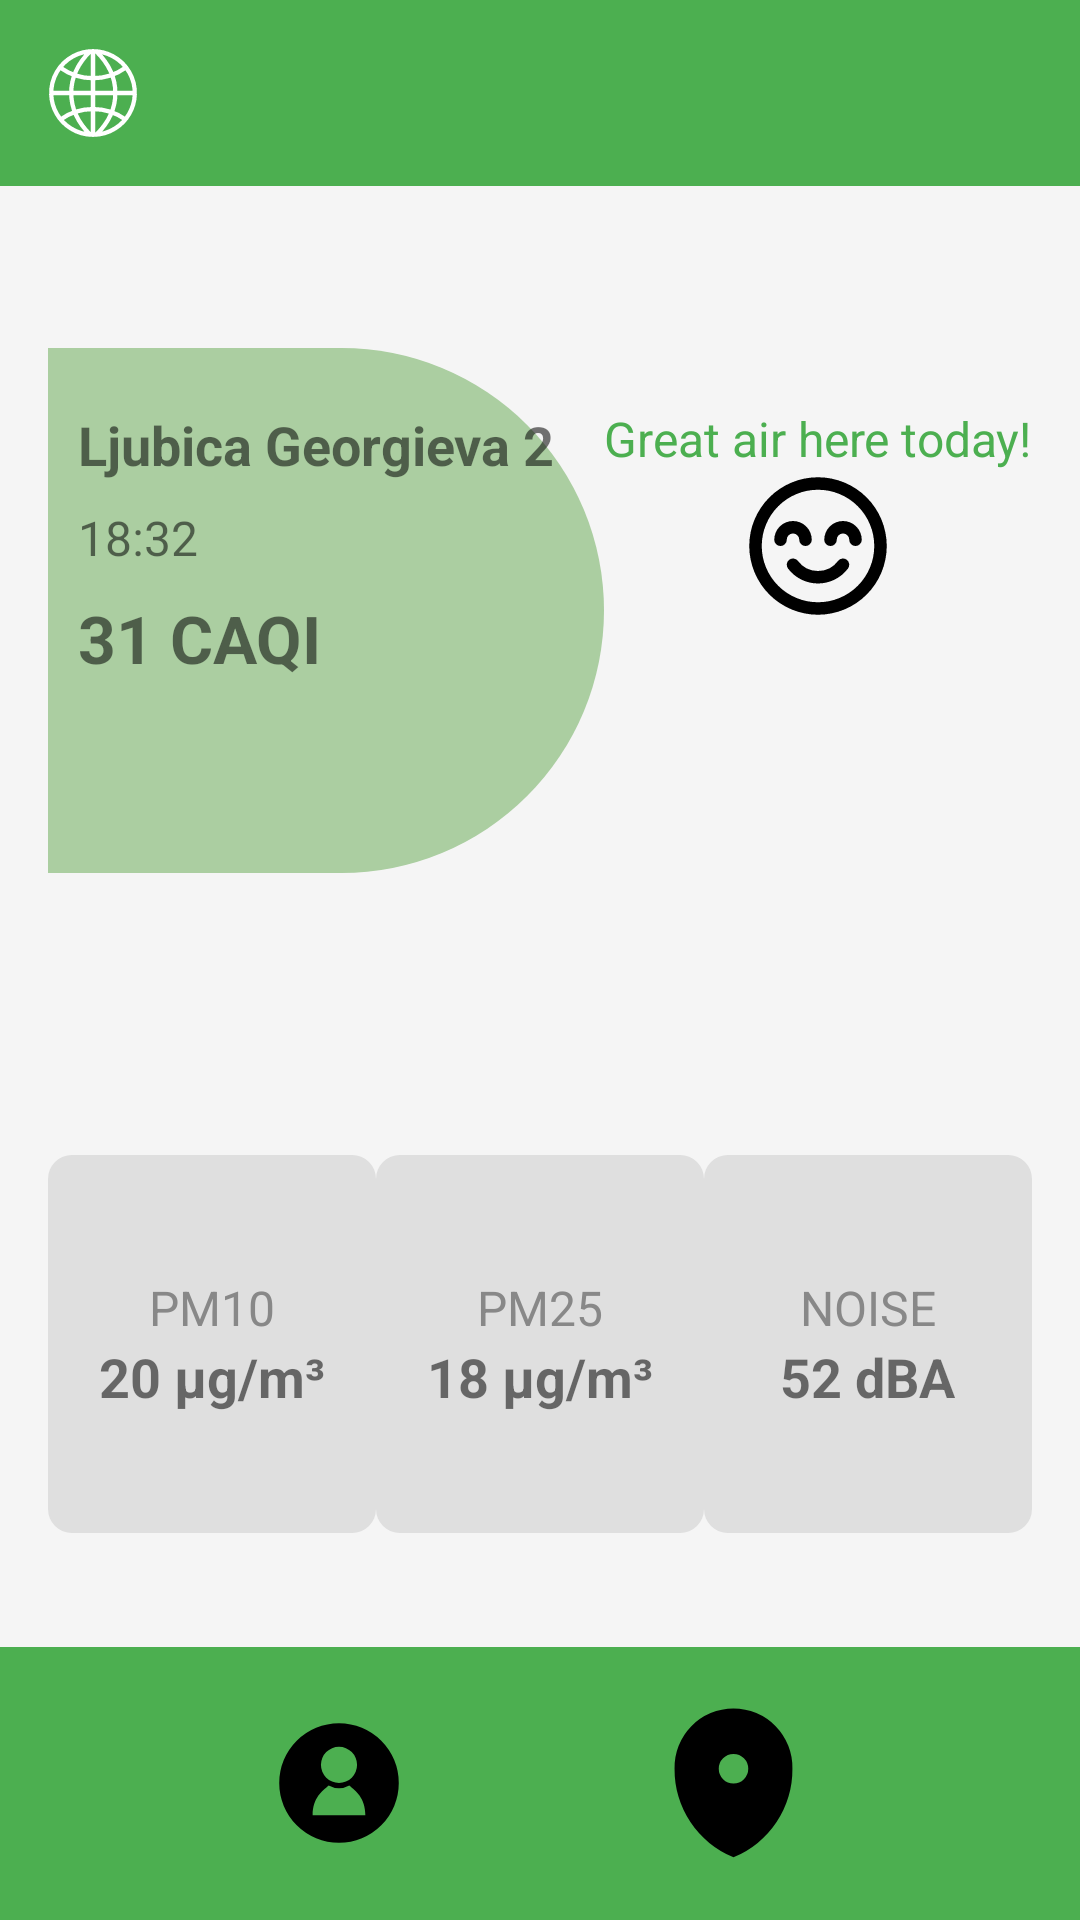

Icon bounding boxes for this 1080*1920 phone screenshot, format (x1=x1, y1=y1, x2=x2, y2=y2):
globe: (x1=49, y1=49, x2=137, y2=137)
map: (x1=674, y1=1708, x2=793, y2=1858)
profile: (x1=279, y1=1723, x2=399, y2=1843)
smile: (x1=749, y1=477, x2=887, y2=615)
